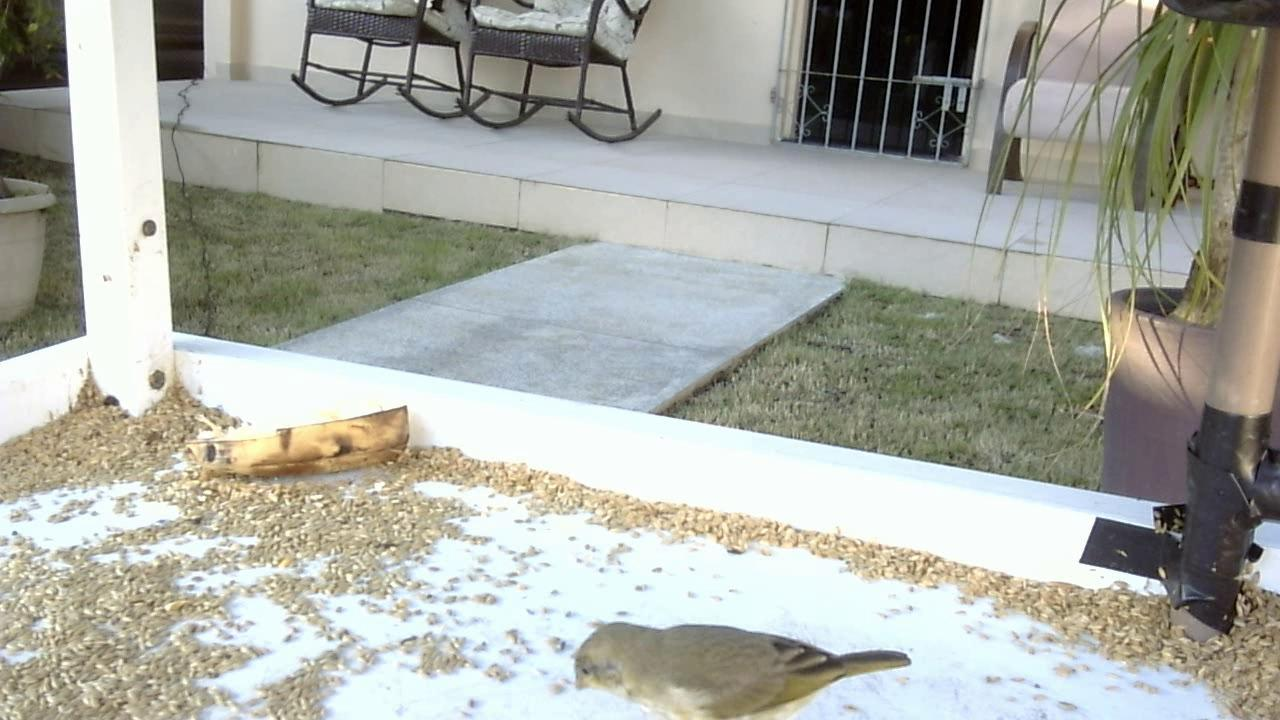canario_do_amazonas: (576, 612, 911, 718)
